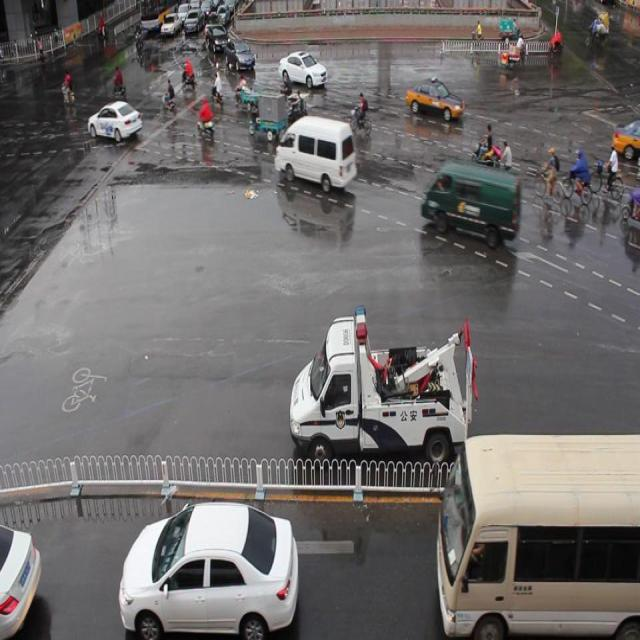bus: (289, 302, 478, 468)
car: (118, 498, 299, 640), (1, 518, 42, 640), (405, 74, 464, 120), (89, 98, 142, 144), (278, 46, 328, 90), (610, 114, 640, 162), (224, 39, 255, 72), (207, 23, 231, 54)
truck: (434, 432, 640, 640), (418, 160, 522, 247), (274, 114, 357, 192)
